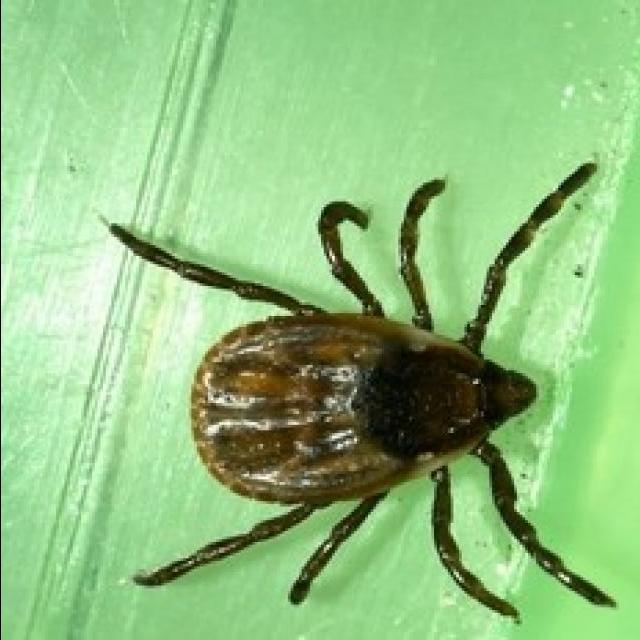Rhipicephalus Sanguineus-F: (105, 161, 618, 624)
